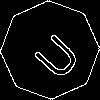U: (25, 25, 83, 83)
